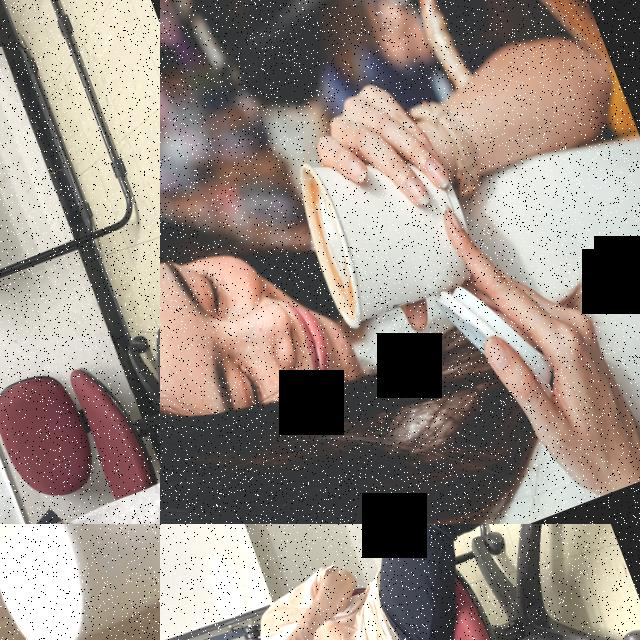cup: (282, 116, 492, 337), (0, 524, 160, 640)
